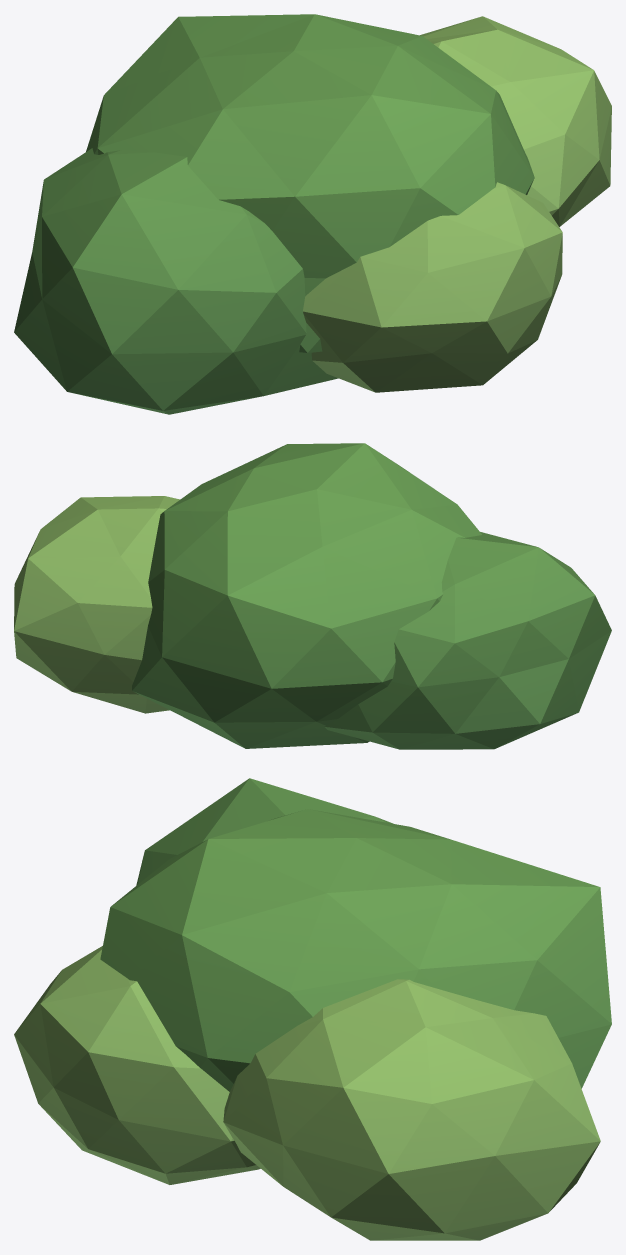
Rendered from bush_a.glb.
3 renders of one model, top to bottom at view 1: azimuth 30°, elevation 25°; view 2: azimuth 150°, elevation 25°; view 3: azimuth 270°, elevation 25°, orthographic. The views are drawn at different scales.
Visible parts, largest first — view 1: bush_a; view 2: bush_a; view 3: bush_a.
Boxes of the visible parts, x1,y1,x2,y2 form: bush_a: (14,14,611,414); bush_a: (14,443,611,749); bush_a: (14,778,611,1240).
Size of the model in its own units: 2.1 by 0.9573 by 1.63.
